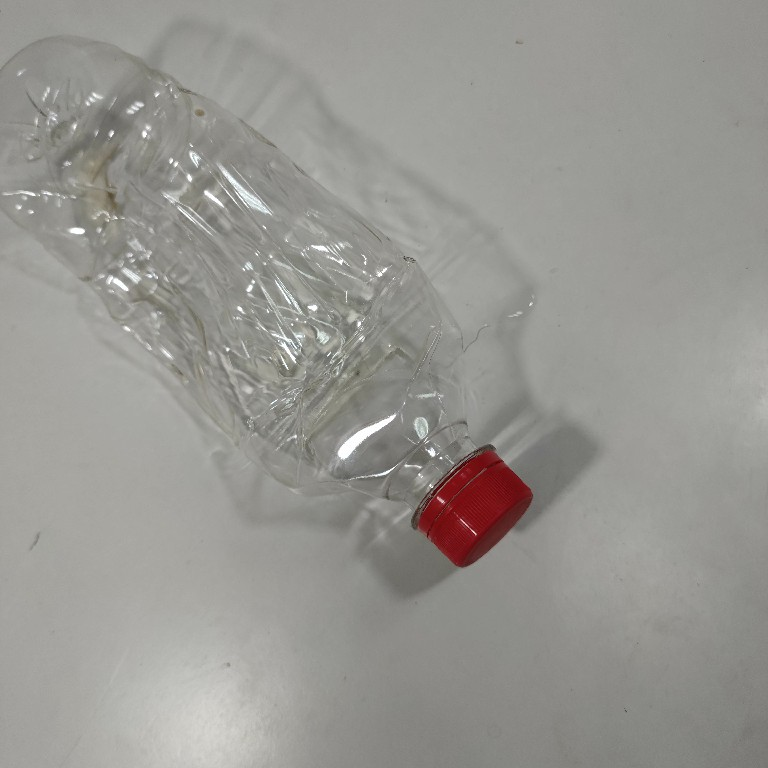bottle: (1, 24, 538, 578)
